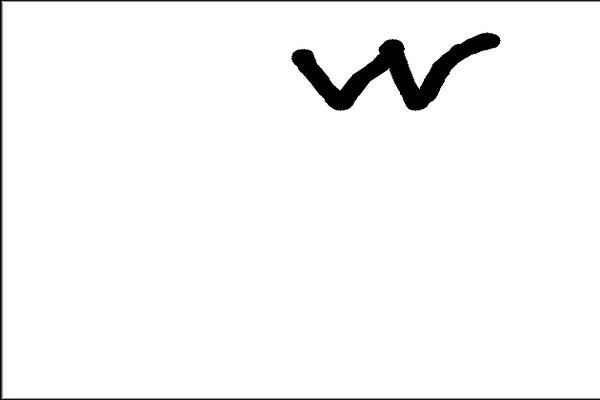w: (278, 24, 528, 123)
